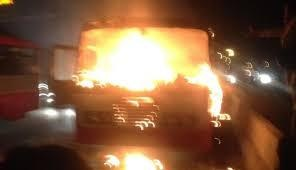fire: (76, 28, 213, 91), (102, 149, 167, 169)
